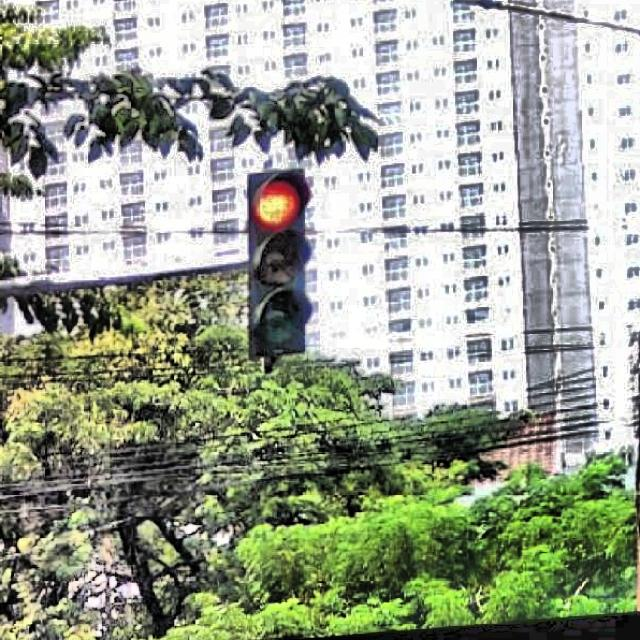red: (247, 167, 315, 358)
